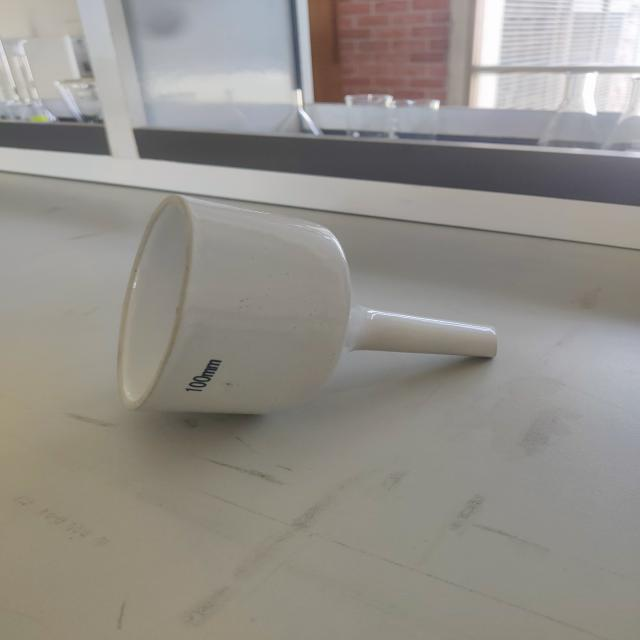Buchner_Funnel: (80, 152, 528, 456)
